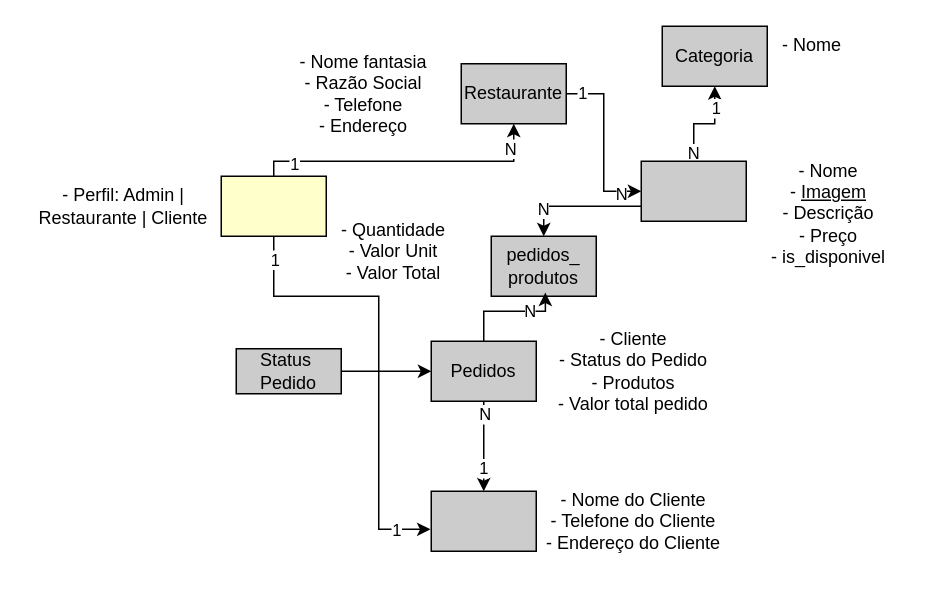
This 951x593 diagram has some shape labels left out. Here are the shapes that lost their labels. From the top down, the centre of each, then its label:
At point 273,205: "User".
At point 693,190: "Produtos".
At point 483,520: "Clientes".
